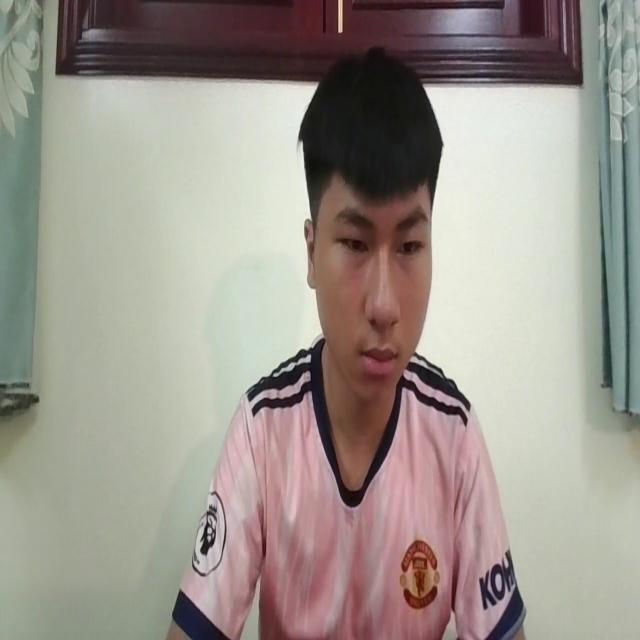student: (148, 42, 530, 640)
